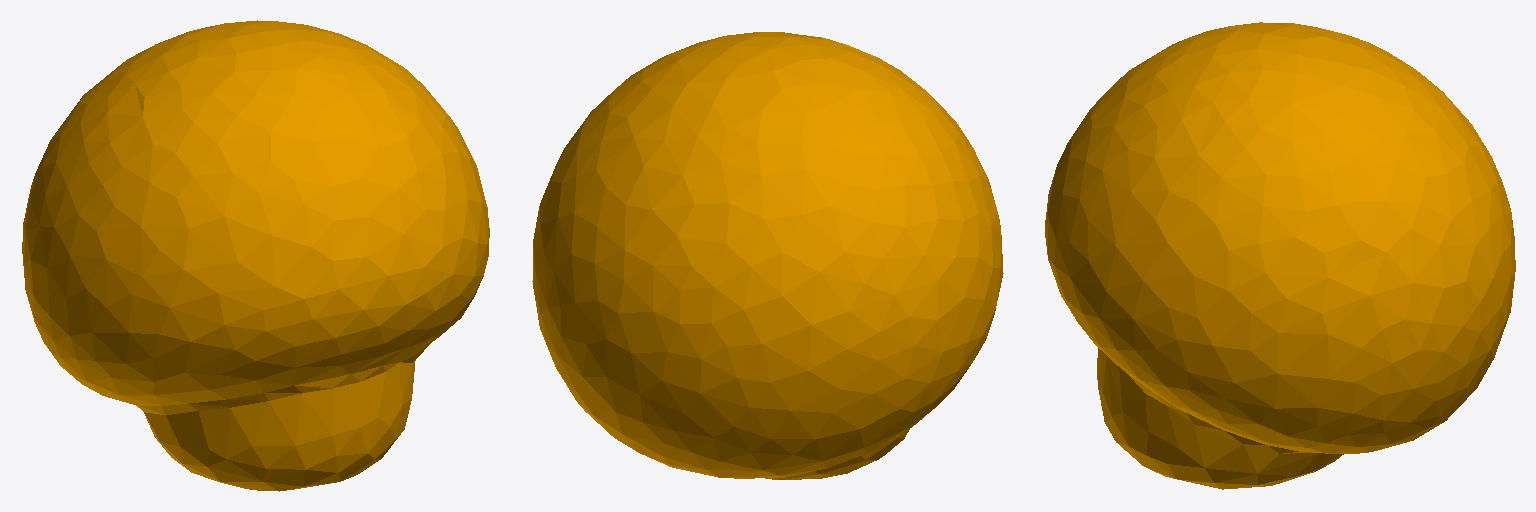
URDF robot description (mushroom_poisson_002):
<?xml version="1.0"?>
<robot name="mushroom_poisson_002">
  <link name="base_link">
    <contact>
      <lateral_friction value="1.0"/>
      <rolling_friction value="0.0"/>
      <contact_cfm value="0.0"/>
      <contact_erp value="1.0"/>
    </contact>
    <inertial>
      <mass value="0.0724238280088"/>
      <inertia ixx="1" ixy="0" ixz="0" iyy="1" iyz="0" izz="1"/>
    </inertial>
    <visual>
      <geometry>
        <mesh filename="mushroom_poisson_002_visual.obj"/>
      </geometry>
    </visual>
    <collision>
      <geometry>
        <mesh filename="mushroom_poisson_002_collision.obj"/>
      </geometry>
    </collision>
  </link>
</robot>

--- Render facts (derived) ---
3 views of the same robot in one strip: view 1: azimuth 30°, elevation 25°; view 2: azimuth 150°, elevation 25°; view 3: azimuth 270°, elevation 25° (orthographic).
Robot: mushroom_poisson_002 — 1 links, 0 joints (none); root link base_link; default pose: every joint at zero.
Visible links, largest first — view 1: base_link; view 2: base_link; view 3: base_link.
Link boxes in pixels (x1,y1,x2,y2): base_link: (22, 20, 489, 491); base_link: (532, 32, 1003, 479); base_link: (1045, 22, 1515, 489).
Bounding box of the posed robot: 0.0599 × 0.0593 × 0.0578 m (x, y, z).
1 mesh visuals loaded from 1 distinct referenced files (1 OBJ).